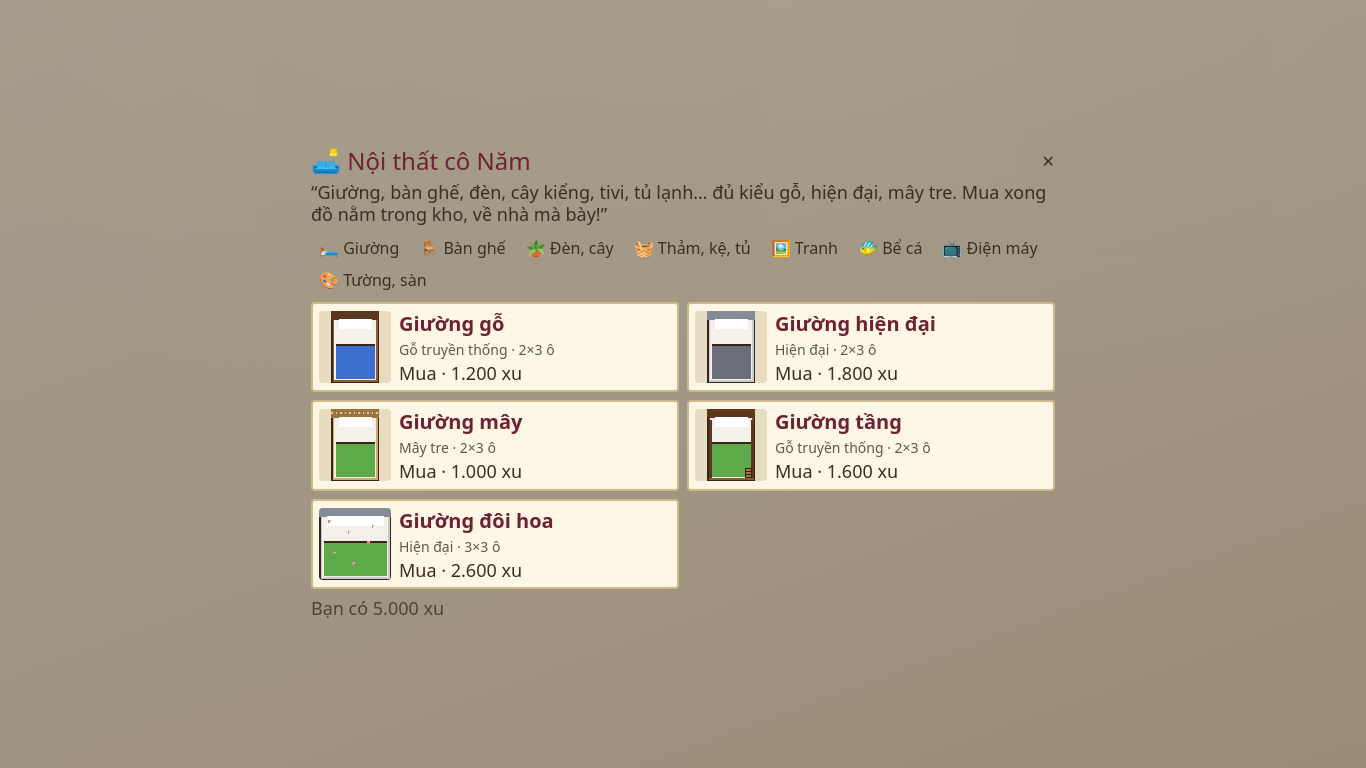
Test: FurnitureShopModal › lists a tab's items and buys one into storage
Check: the list with test id "furniture-list" shows "Giường gỗ", box [399,310,504,336]
Click the tab "📺 Điện máy". click: (990, 248)
box: [934,234,1046,262]
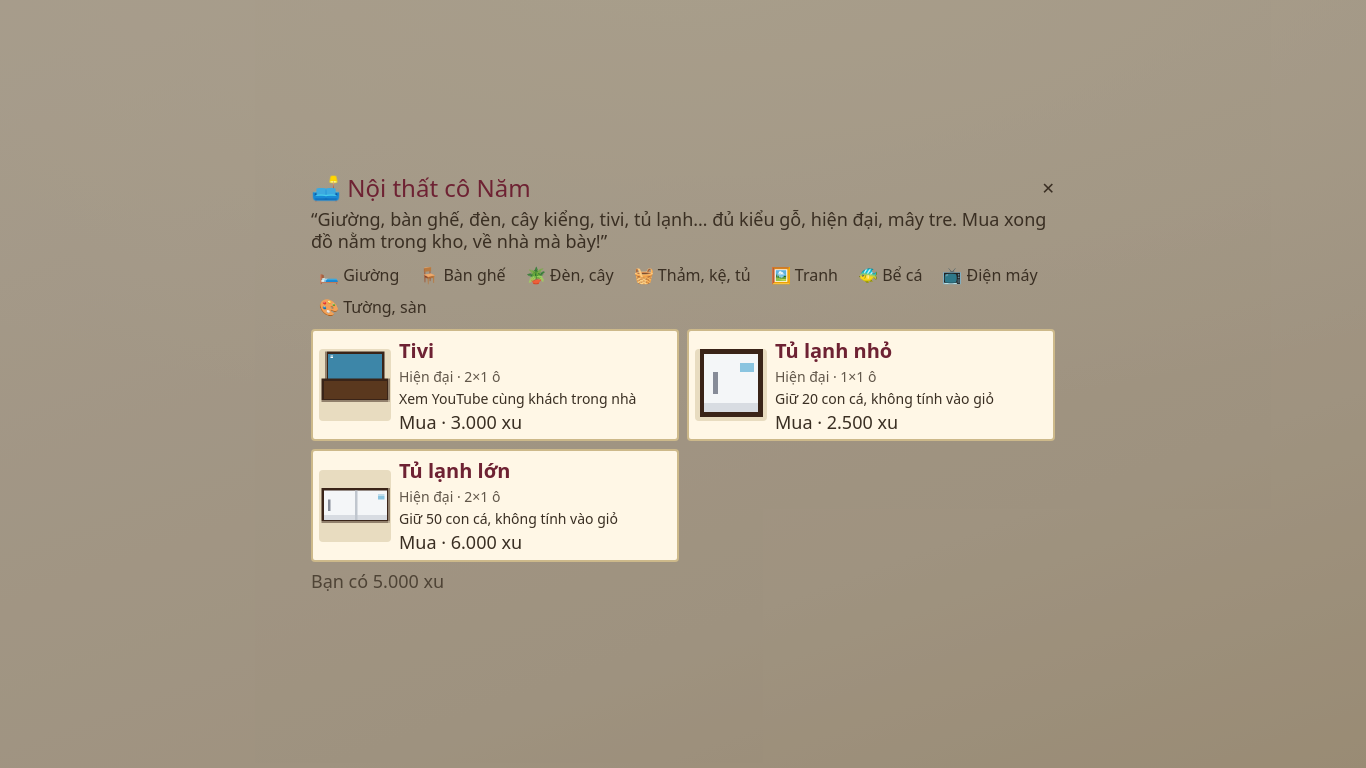
Check: the list with test id "furniture-list" shows "Tủ lạnh lớn", box [399,457,510,484]
Check: the button "Mua · 6.000 xu" is disabled, box [399,531,522,554]
Click the button "Mua · 3.000 xu". click: (461, 422)
box: [399,411,522,433]
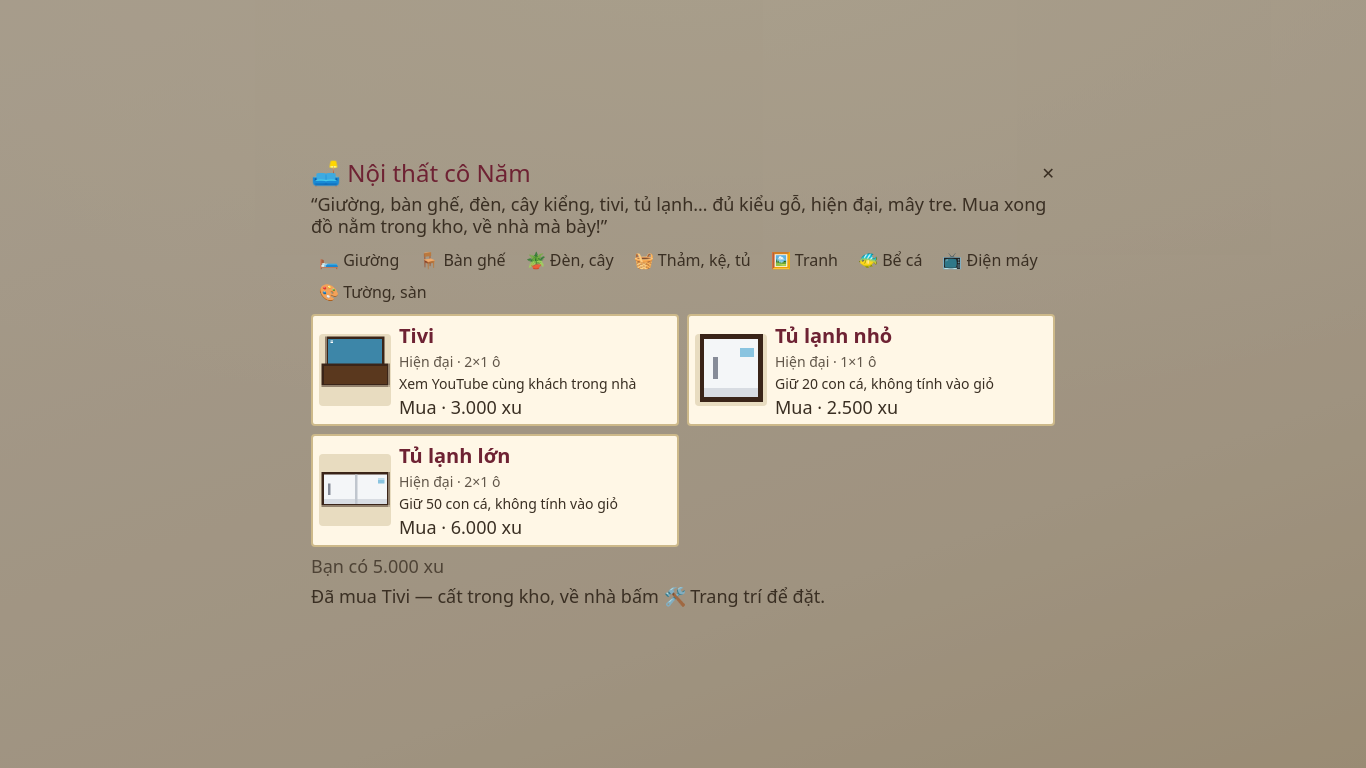
Check: the message shows "Tivi", box [311,584,825,608]
